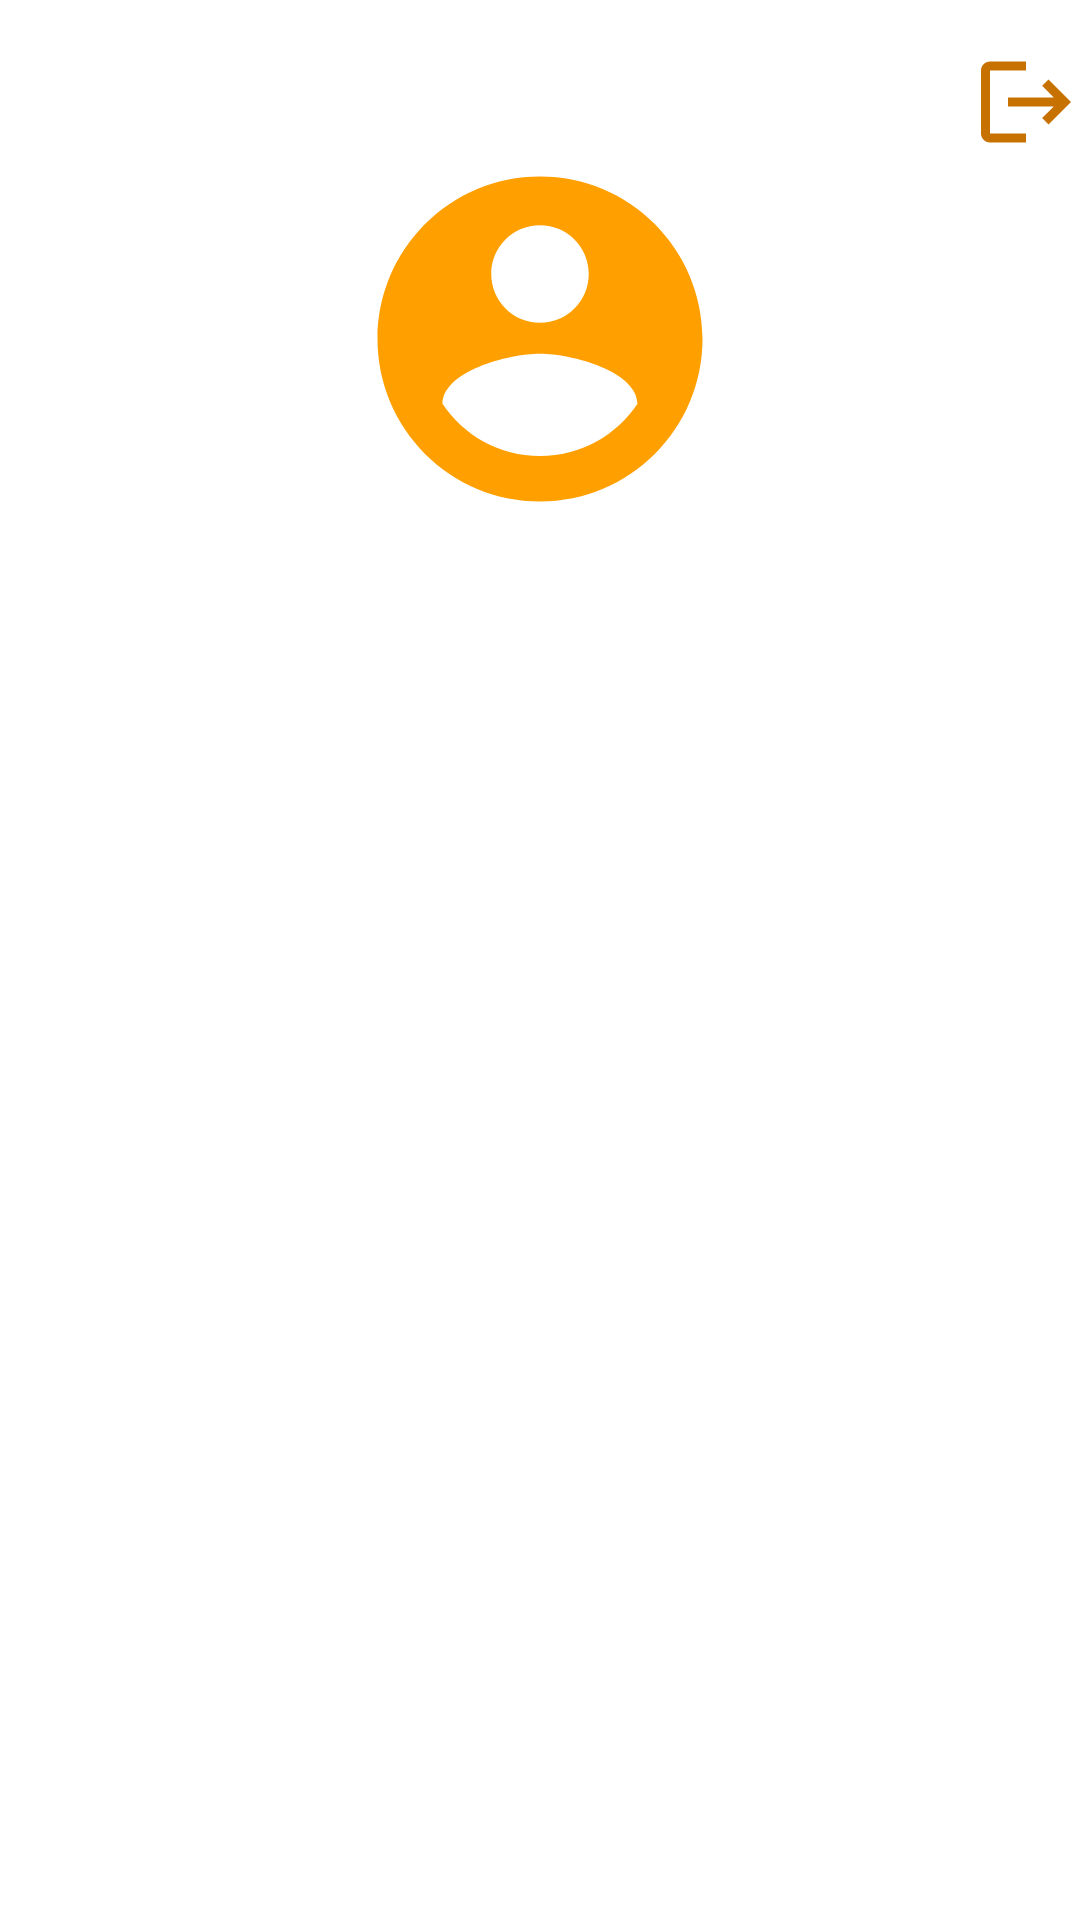

Screen size 1080 × 1920. Icon name, then its center in pixels as point (x, y):
account circle: point (540, 339)
